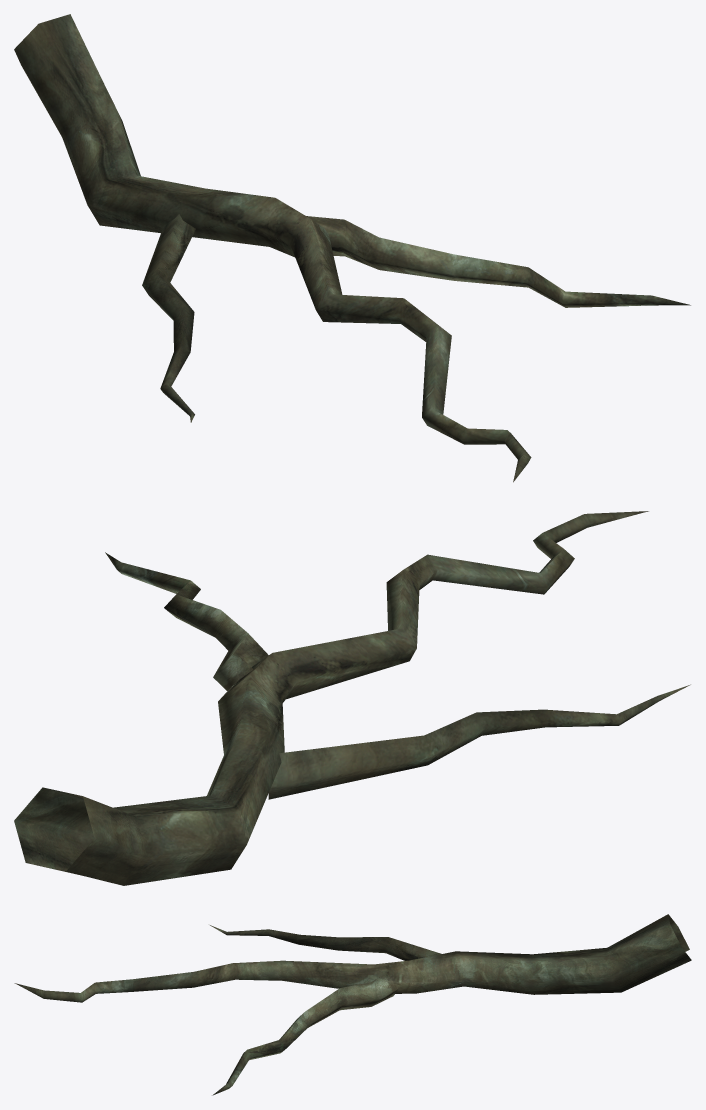
File: Roots2.fbx
3 renders of one model, top to bottom at view 1: azimuth 30°, elevation 25°; view 2: azimuth 150°, elevation 25°; view 3: azimuth 270°, elevation 25°, orthographic. The views are drawn at different scales.
Parts seen in each view (by area): view 1: polySurface3127; view 2: polySurface3127; view 3: polySurface3127.
Boxes of the visible parts, x1=… form: polySurface3127: x1=14, y1=14, x2=690, y2=482; polySurface3127: x1=14, y1=511, x2=690, y2=885; polySurface3127: x1=14, y1=914, x2=691, y2=1095.
Bounding box in the file's own units: 3.32 × 0.7866 × 5.7.
